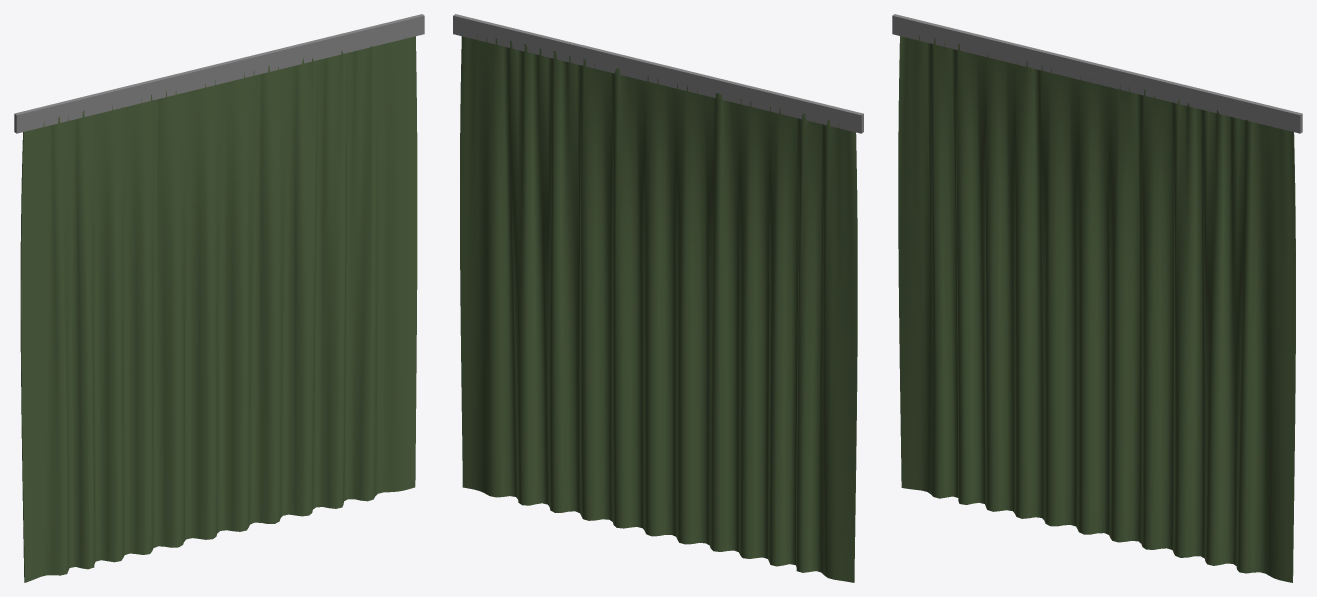
3 renders of one model, left to right at view 1: azimuth 30°, elevation 25°; view 2: azimuth 150°, elevation 25°; view 3: azimuth 330°, elevation 25°, orthographic.
Visible parts, largest first — view 1: Plane001, Box001; view 2: Plane001, Box001; view 3: Plane001, Box001.
Part boxes in pixels (x1,y1,x2,y2): Plane001: (20, 36, 417, 582); Box001: (14, 14, 424, 133); Plane001: (460, 34, 857, 582); Box001: (453, 14, 863, 133); Plane001: (898, 35, 1295, 582); Box001: (892, 14, 1302, 133).
Size of the model in its own units: 202 by 222 by 6.53.
